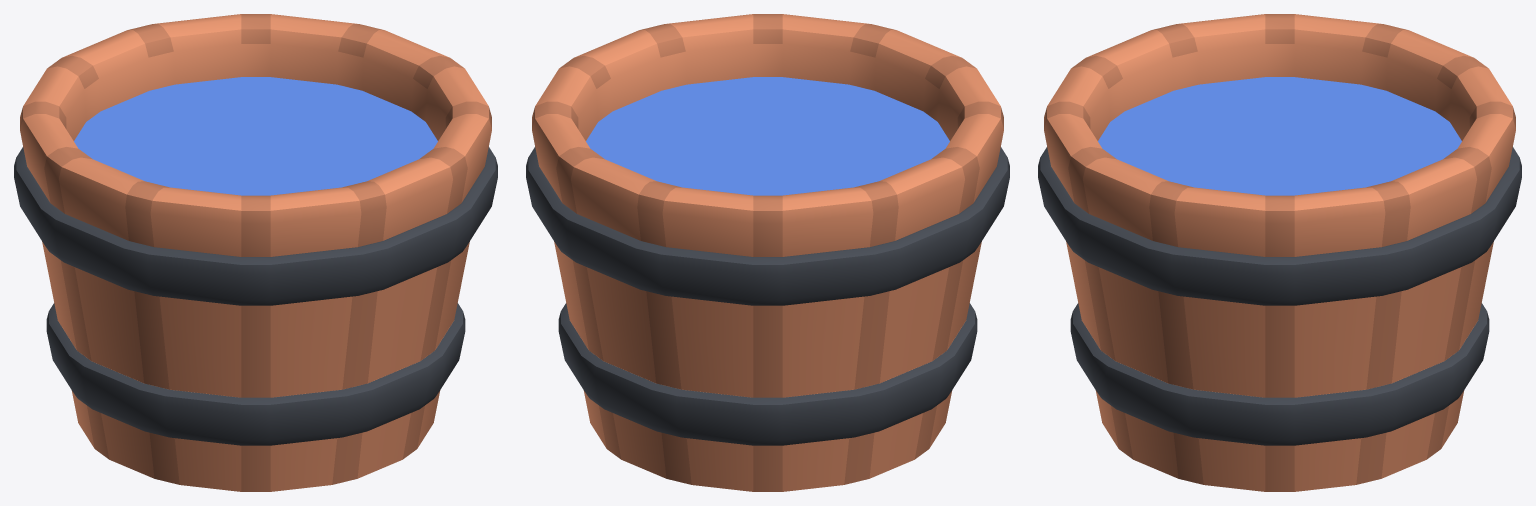
File: Bucket001.fbx
The picture shows the model from 3 angles, left to right: view 1: azimuth 30°, elevation 25°; view 2: azimuth 150°, elevation 25°; view 3: azimuth 270°, elevation 25°; orthographic projection.
Parts seen in each view (by area): view 1: Bucket001; view 2: Bucket001; view 3: Bucket001.
Boxes of the visible parts, <box> form: Bucket001: <box>14,14,497,491</box>; Bucket001: <box>526,14,1009,491</box>; Bucket001: <box>1038,14,1521,491</box>.
Bounding box in the file's own units: 116 × 81.93 × 116.
